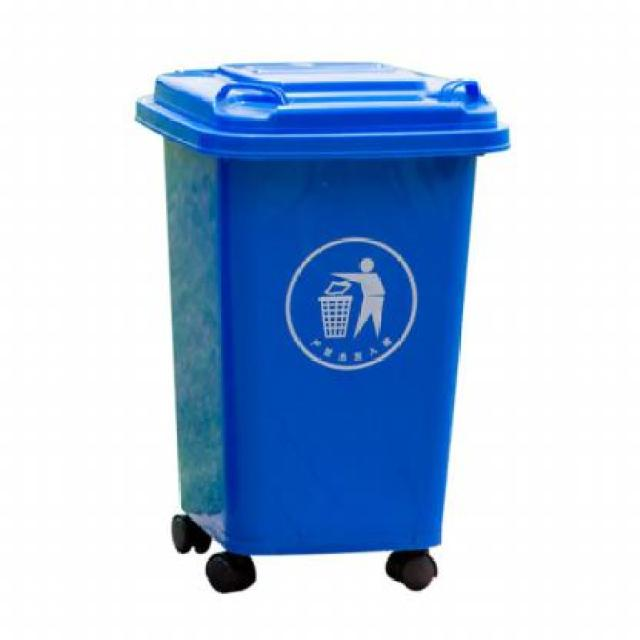garbage container: (117, 51, 526, 629)
